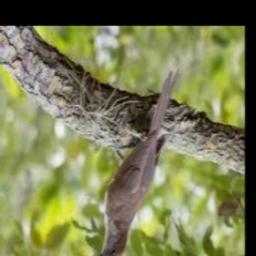Cuckoo: (91, 65, 181, 256)
